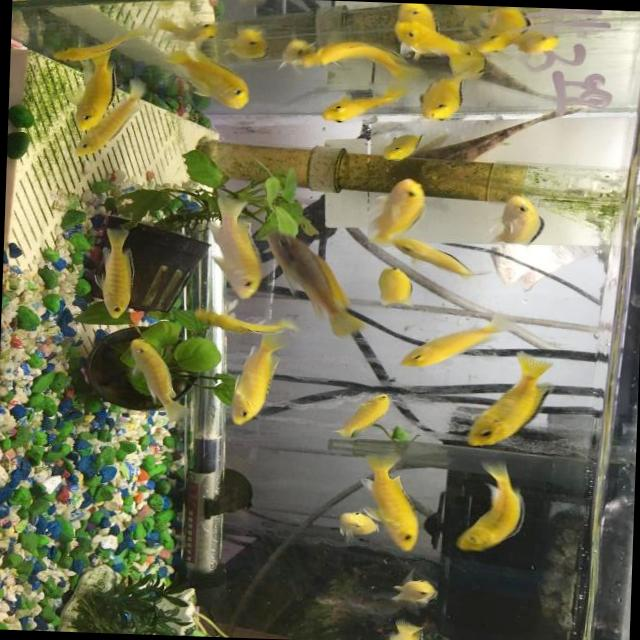YellowCichlid: (442, 452, 554, 564), (74, 216, 152, 324), (214, 344, 297, 445), (204, 187, 276, 303), (458, 370, 564, 444), (276, 221, 348, 326), (400, 311, 523, 372), (74, 90, 157, 172), (360, 169, 438, 247), (320, 82, 415, 134), (41, 18, 142, 66), (379, 452, 426, 554), (325, 384, 402, 444), (123, 334, 174, 424), (189, 62, 259, 120), (179, 308, 302, 340), (498, 185, 551, 247), (302, 44, 393, 78), (417, 74, 467, 124), (366, 263, 420, 307), (64, 75, 114, 122), (513, 27, 573, 62), (228, 18, 270, 68), (469, 5, 536, 36), (386, 29, 456, 58), (388, 575, 452, 605), (158, 16, 220, 44), (373, 137, 432, 163), (334, 512, 376, 548), (448, 44, 482, 78), (393, 2, 434, 28), (274, 37, 298, 74), (385, 628, 439, 640), (475, 37, 507, 57)
